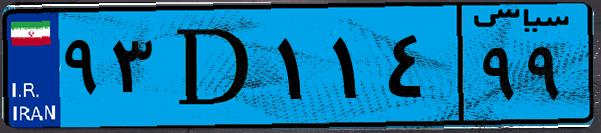1: (270, 28, 330, 110), (330, 28, 385, 110)
3: (110, 28, 158, 98)
4: (385, 28, 445, 110)
9: (57, 26, 110, 100), (475, 38, 525, 113), (525, 38, 570, 115)
D: (158, 12, 270, 120)
